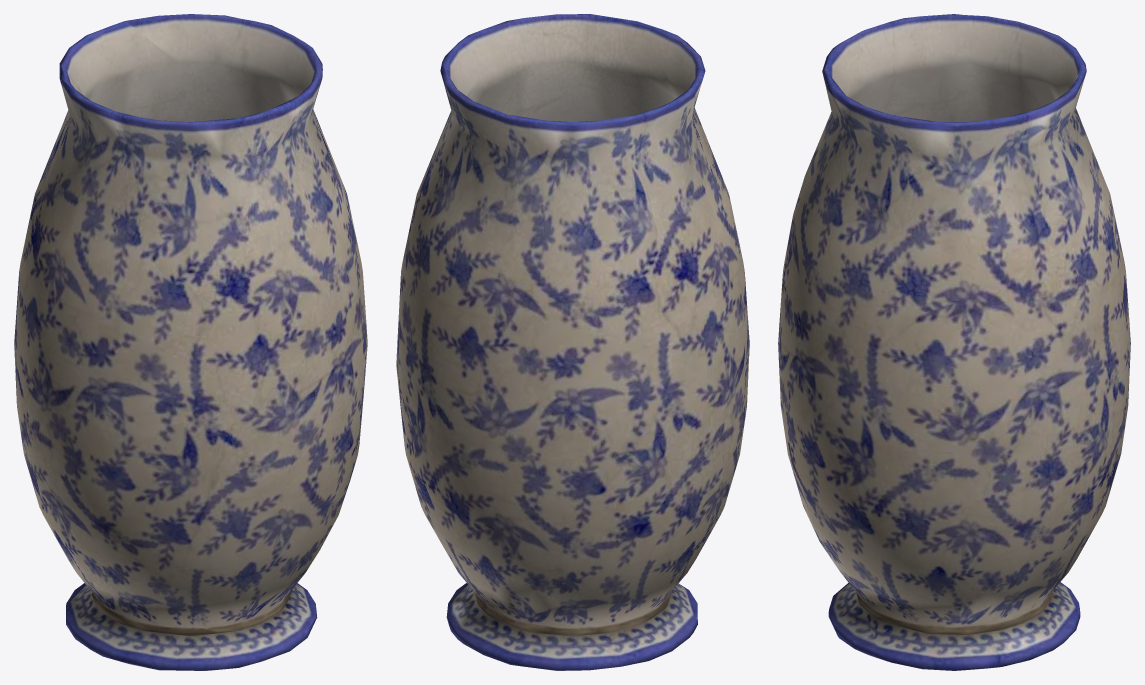
Rendered from antique_ceramic_vase_01.glb.
3 views of the same model, side by side, from view 1: azimuth 30°, elevation 25°; view 2: azimuth 150°, elevation 25°; view 3: azimuth 270°, elevation 25° (orthographic).
Parts seen in each view (by area): view 1: antique_ceramic_vase_01; view 2: antique_ceramic_vase_01; view 3: antique_ceramic_vase_01.
Boxes of the visible parts, x1,y1,x2,y2 form: antique_ceramic_vase_01: (14, 14, 367, 670); antique_ceramic_vase_01: (396, 14, 749, 670); antique_ceramic_vase_01: (778, 14, 1130, 670).
Size of the model in its own units: 0.255 by 0.4396 by 0.255.
Materials: 1 (1 with a texture image).
